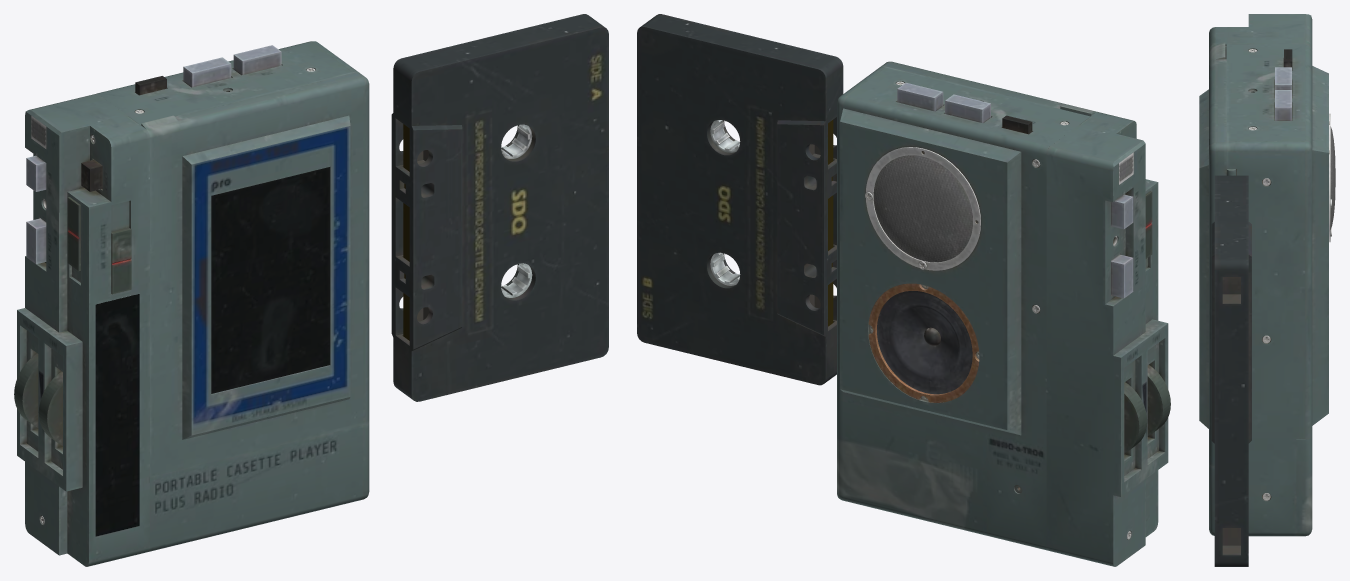
The model's file is portable_cassette_player.gltf.
3 views of the same model, side by side, from view 1: azimuth 30°, elevation 25°; view 2: azimuth 150°, elevation 25°; view 3: azimuth 270°, elevation 25° (orthographic). The views are drawn at different scales.
Parts seen in each view (by area): view 1: portable_cassette_player, portable_cassette_player_lid, portable_cassette_player_casette; view 2: portable_cassette_player, portable_cassette_player_casette, portable_cassette_player_lid; view 3: portable_cassette_player, portable_cassette_player_casette, portable_cassette_player_lid.
Boxes of the visible parts, bbox=[...] form: portable_cassette_player: bbox=[14, 41, 369, 566]; portable_cassette_player_lid: bbox=[141, 72, 369, 476]; portable_cassette_player_casette: bbox=[391, 14, 608, 401]; portable_cassette_player: bbox=[837, 66, 1170, 566]; portable_cassette_player_casette: bbox=[637, 14, 843, 385]; portable_cassette_player_lid: bbox=[881, 61, 1097, 116]; portable_cassette_player: bbox=[1209, 14, 1335, 536]; portable_cassette_player_casette: bbox=[1211, 175, 1251, 566]; portable_cassette_player_lid: bbox=[1199, 42, 1235, 466].
Bounding box in the file's own units: 0.1723 × 0.1303 × 0.0397.
2 materials, 2 textured.
